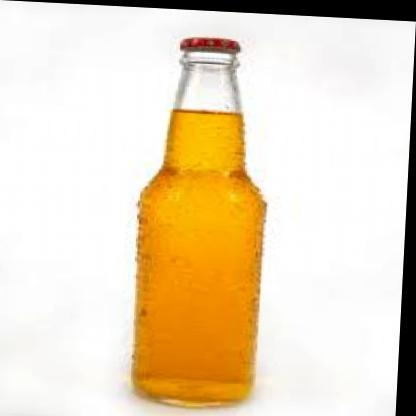trash: (132, 37, 265, 405)
